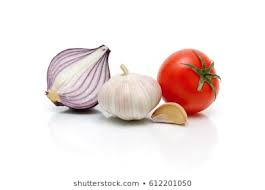onion: (44, 44, 111, 112), (99, 68, 162, 123)
tomato: (157, 49, 221, 116)
